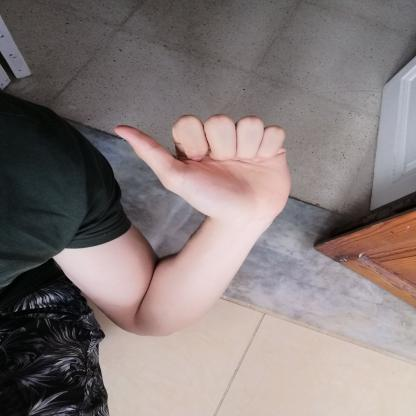DAD: (102, 108, 303, 231)
